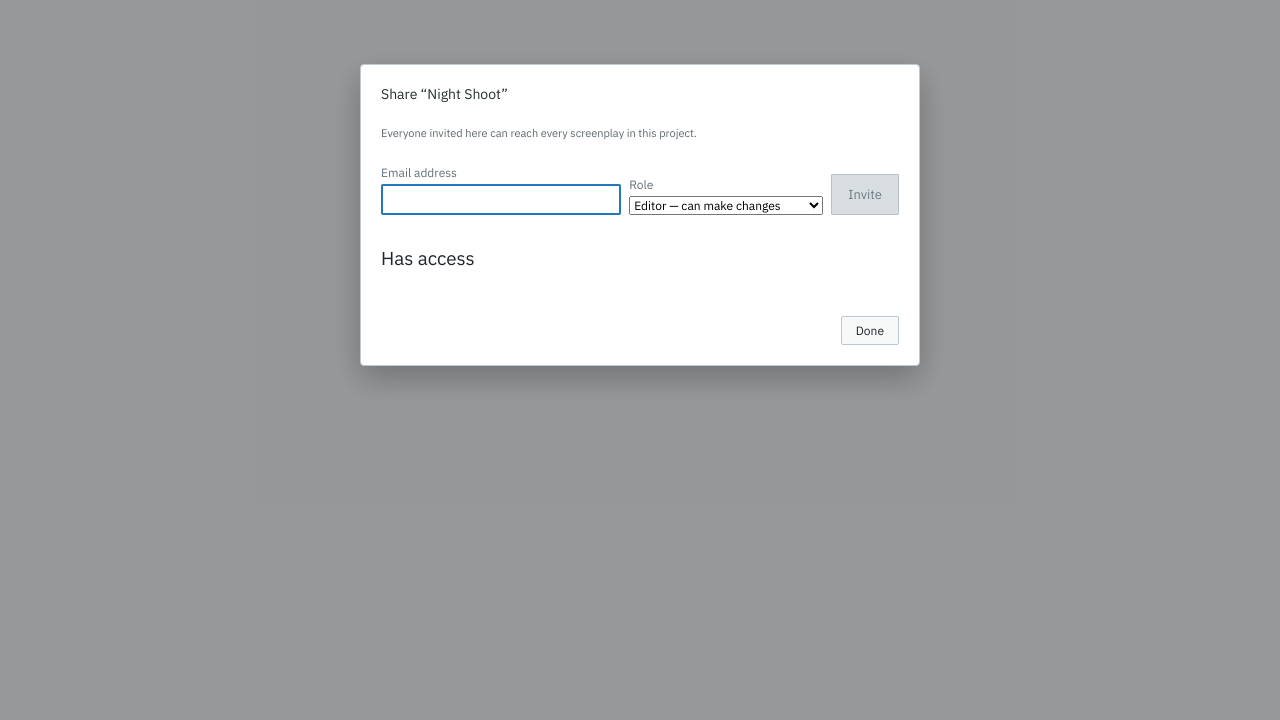
it: the sharing dialog › shows the server’s own refusal message when an invite is rejected outright
This screenshot has width=1280, height=720.
Type "invitee@example.test" into the field named "Invite by email address" at point(501, 199), box [381, 184, 621, 215]
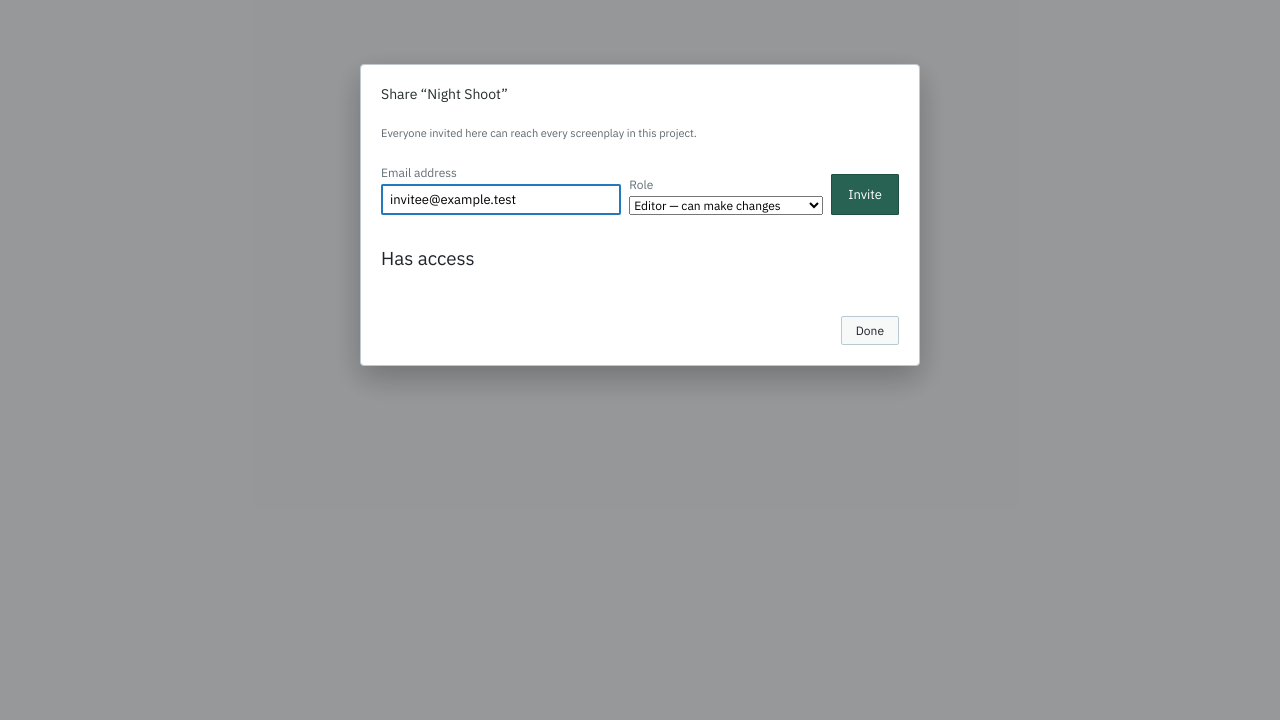
Click the button "Invite" at point(865, 194), box [831, 174, 899, 215]
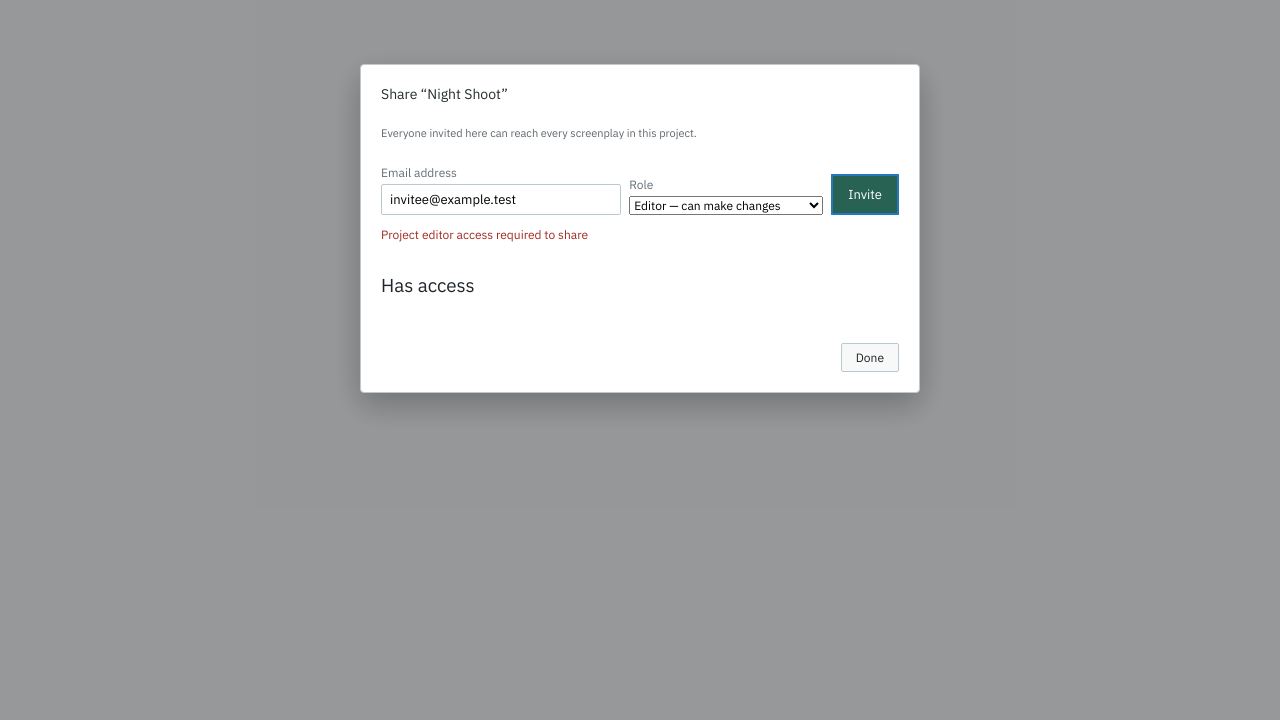
Check: the message reads "Project editor access required to share", box [381, 227, 588, 242]
